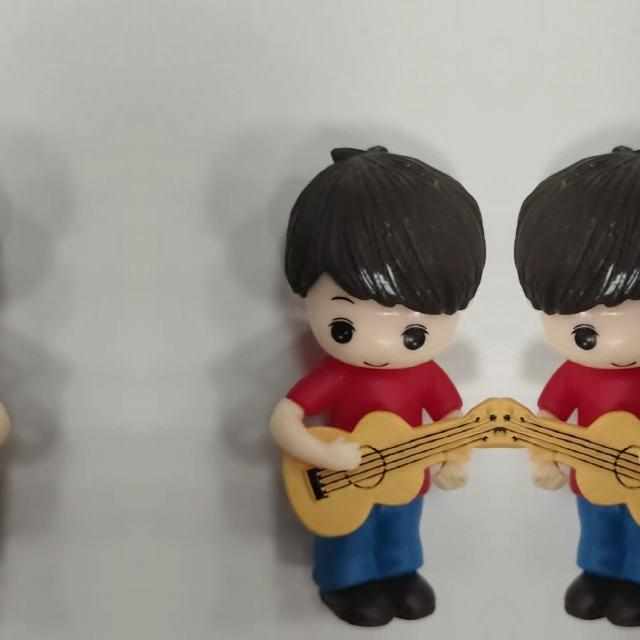man cloth: (278, 362, 474, 510), (525, 362, 640, 509), (0, 362, 2, 509)
man head: (280, 138, 490, 374), (510, 137, 640, 374)
trousers: (308, 494, 444, 624), (556, 493, 640, 624)
